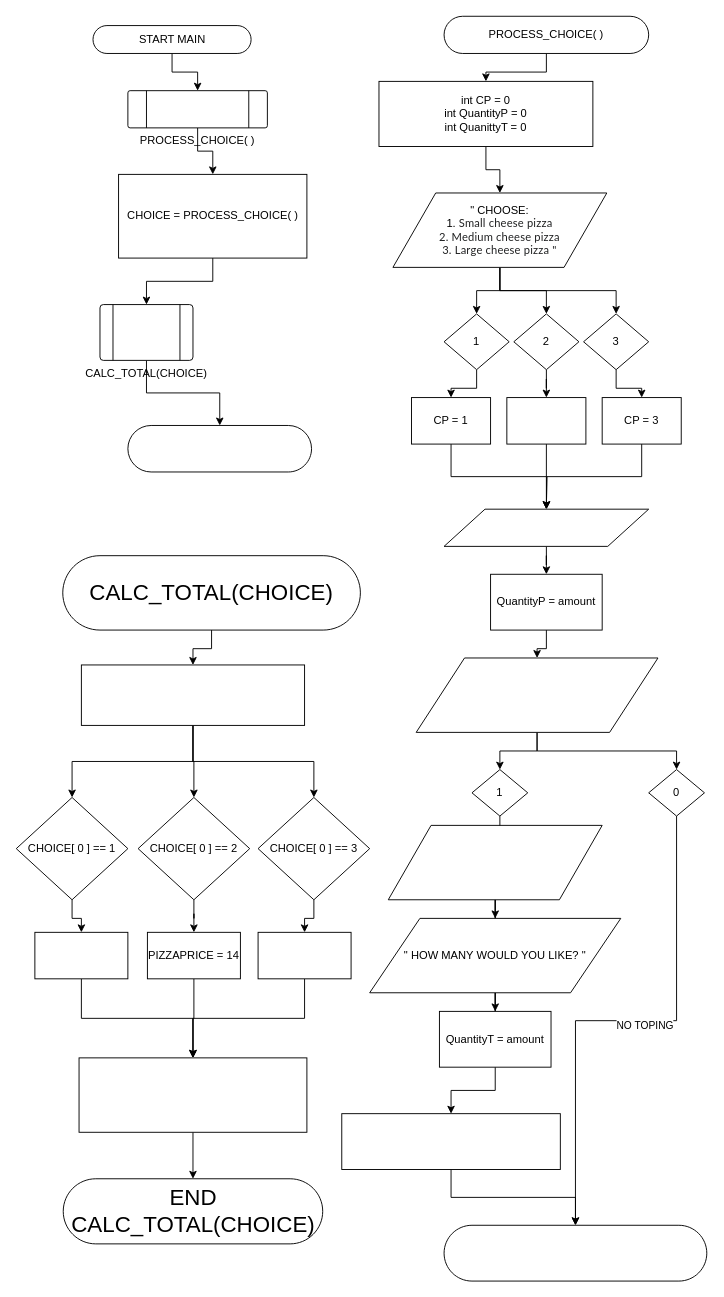
Some shapes in this 724 by 1297 pixel diagram are drawn without their labels. The box of each missing label's shape, as (x1, y1, x2, y2) in pixels:
" CHOOSE: 1. pepperoni 2. sausage 3. olives ": (387, 824, 602, 900)
" WOULD YOU LIKE TOPINGS? 1. YES 0. NO ": (415, 657, 658, 732)
"AMOUNT: ": (443, 508, 649, 546)
CP = 2: (506, 397, 586, 444)
END MAIN: (127, 425, 312, 472)
END PROCESS_CHOICE( ): (443, 1224, 707, 1281)
PIZZAPRICE = 0: (80, 664, 305, 725)
PIZZAPRICE = 12: (34, 931, 128, 979)
PIZZAPRICE = 16: (257, 931, 351, 979)
return PIZZAPRICE * CHOICE[ 1 ] + CHOICE[ 2 ]: (78, 1057, 307, 1132)
return { CP, QuantityP, QuantityT }: (341, 1113, 560, 1169)
